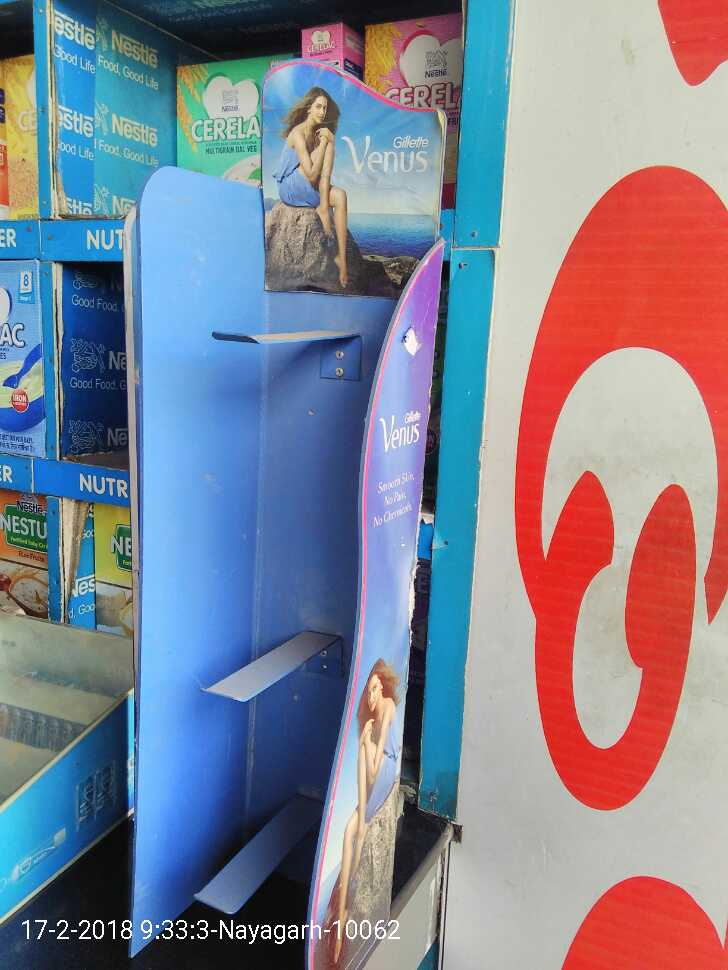reject: (275, 271, 478, 461)
